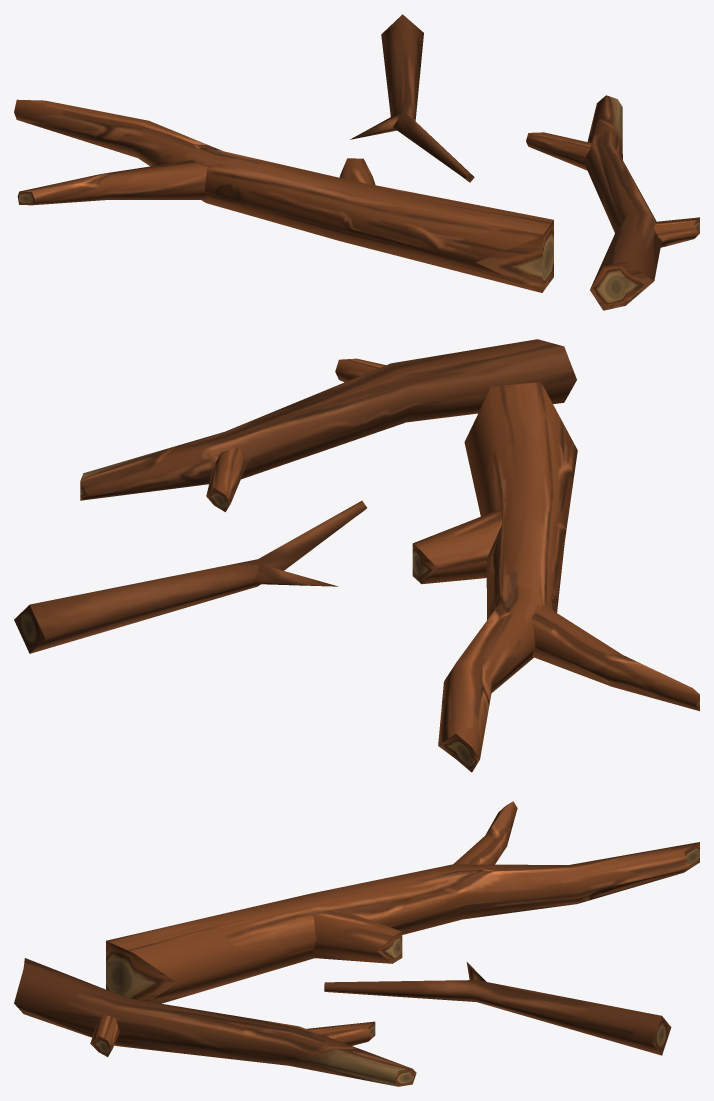
File: resource_branch .fbx
The picture shows the model from 3 angles, top to bottom: view 1: azimuth 30°, elevation 25°; view 2: azimuth 150°, elevation 25°; view 3: azimuth 270°, elevation 25°; orthographic projection. The views are drawn at different scales.
Parts seen in each view (by area): view 1: resource_branch; view 2: resource_branch; view 3: resource_branch.
Boxes of the visible parts, x1,y1,x2,y2 form: resource_branch: (14, 14, 699, 310); resource_branch: (14, 339, 699, 772); resource_branch: (14, 801, 699, 1086).
Size of the model in its own units: 81.29 by 8.11 by 86.41.
